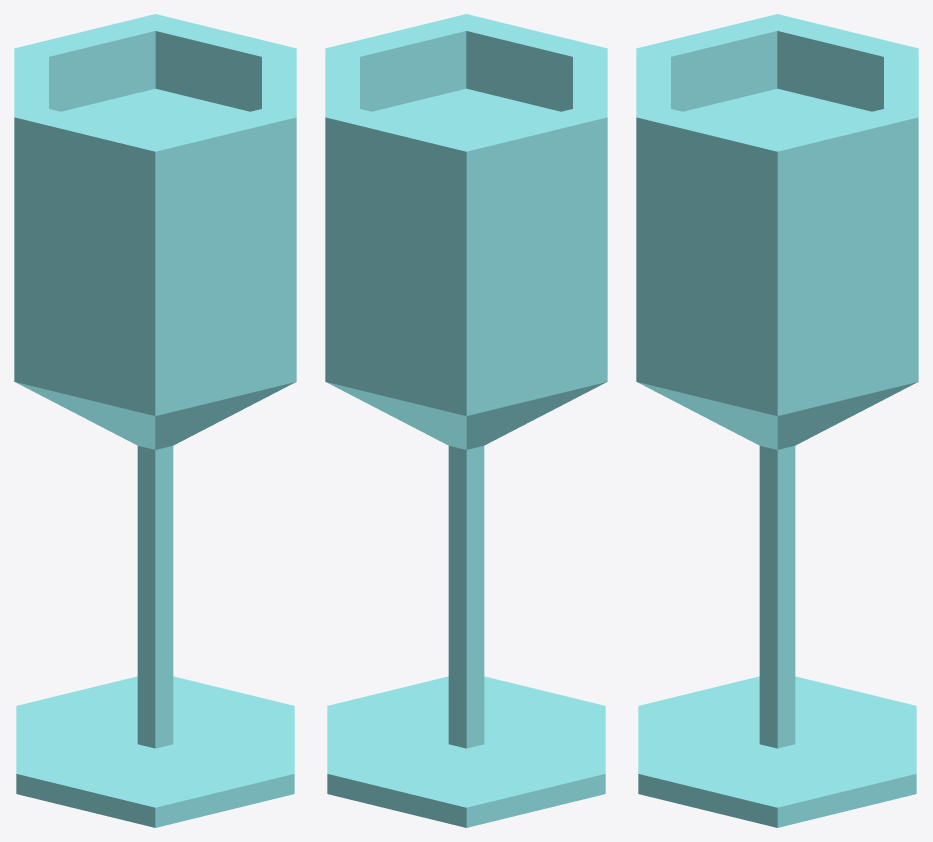
Rendered from wineGlass2_PLY.fbx.
3 views of the same model, side by side, from view 1: azimuth 30°, elevation 25°; view 2: azimuth 150°, elevation 25°; view 3: azimuth 270°, elevation 25° (orthographic).
Visible parts, largest first — view 1: wineGlass2_PLY; view 2: wineGlass2_PLY; view 3: wineGlass2_PLY.
Boxes of the visible parts, x1,y1,x2,y2 form: wineGlass2_PLY: [14, 14, 296, 827]; wineGlass2_PLY: [325, 14, 607, 827]; wineGlass2_PLY: [636, 14, 918, 827].
Bounding box in the file's own units: 0.4215 × 0.9659 × 0.365.
